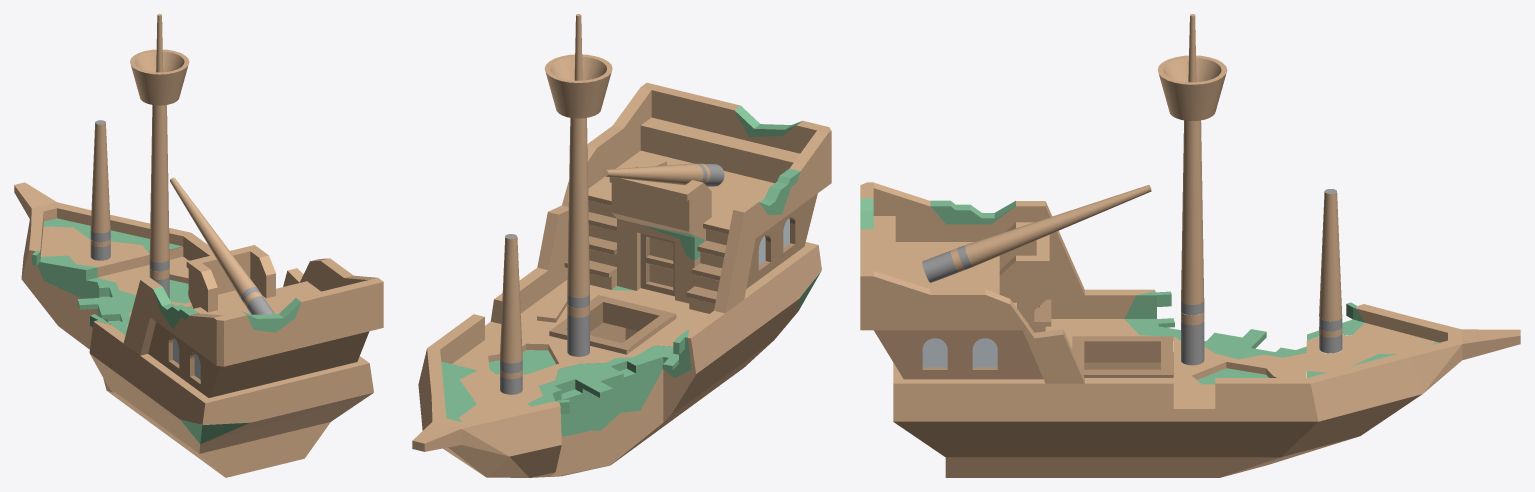
Rendered from ship-wreck.glb.
The picture shows the model from 3 angles, left to right: view 1: azimuth 30°, elevation 25°; view 2: azimuth 150°, elevation 25°; view 3: azimuth 270°, elevation 25°; orthographic projection. The views are drawn at different scales.
Visible parts, largest first — view 1: ship_wreck_8angles; view 2: ship_wreck_8angles; view 3: ship_wreck_8angles.
Boxes of the visible parts, x1,y1,x2,y2 form: ship_wreck_8angles: (14,14,383,477); ship_wreck_8angles: (412,14,831,477); ship_wreck_8angles: (860,14,1520,477).
Size of the model in its own units: 2.85 by 5.92 by 8.05.
Materials: 2 (2 with a texture image).
